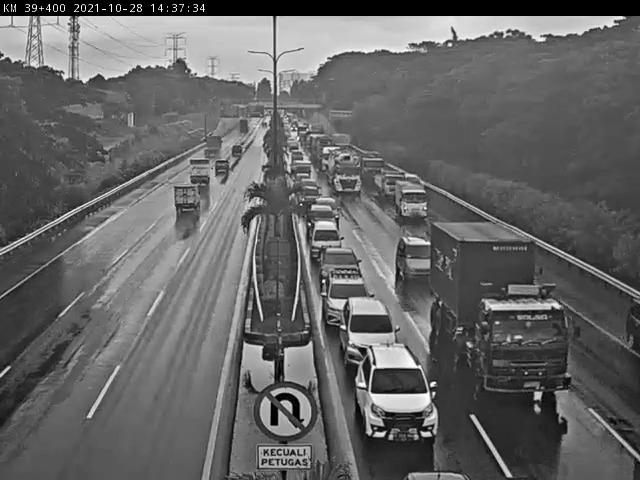big truck: (468, 248, 585, 401), (335, 158, 361, 190)
car: (361, 363, 440, 441), (345, 307, 396, 358), (328, 273, 369, 330), (317, 246, 366, 279), (394, 235, 430, 272), (311, 216, 339, 256), (622, 307, 640, 354), (309, 202, 335, 222), (210, 159, 229, 176), (303, 183, 320, 202), (230, 144, 243, 159)
small truck: (172, 186, 202, 215), (395, 184, 423, 215), (187, 154, 216, 181), (378, 168, 400, 194), (203, 137, 220, 153)
